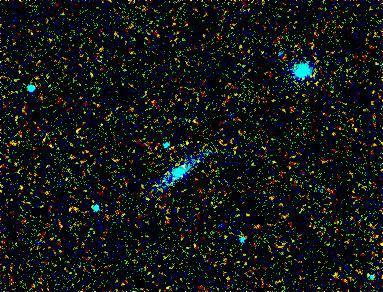star: (61, 195, 91, 225)
